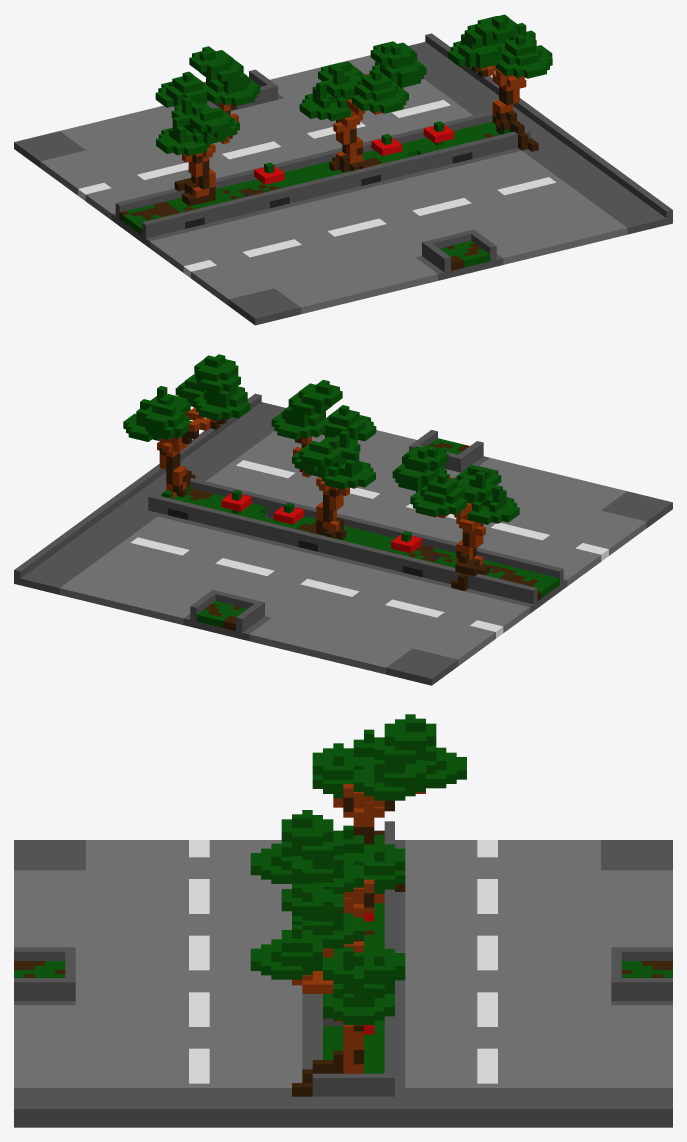
File: StreetTKreuzungWinWin.obj
3 renders of one model, top to bottom at view 1: azimuth 30°, elevation 25°; view 2: azimuth 150°, elevation 25°; view 3: azimuth 270°, elevation 25°, orthographic. The views are drawn at different scales.
Parts seen in each view (by area): view 1: StreetTKreuzungWinWin; view 2: StreetTKreuzungWinWin; view 3: StreetTKreuzungWinWin.
Boxes of the visible parts, x1,y1,x2,y2 form: StreetTKreuzungWinWin: [14, 14, 672, 325]; StreetTKreuzungWinWin: [14, 354, 672, 685]; StreetTKreuzungWinWin: [14, 714, 672, 1127].
Bounding box in the file's own units: 64 × 21 × 64.
1 material, 1 textured.
